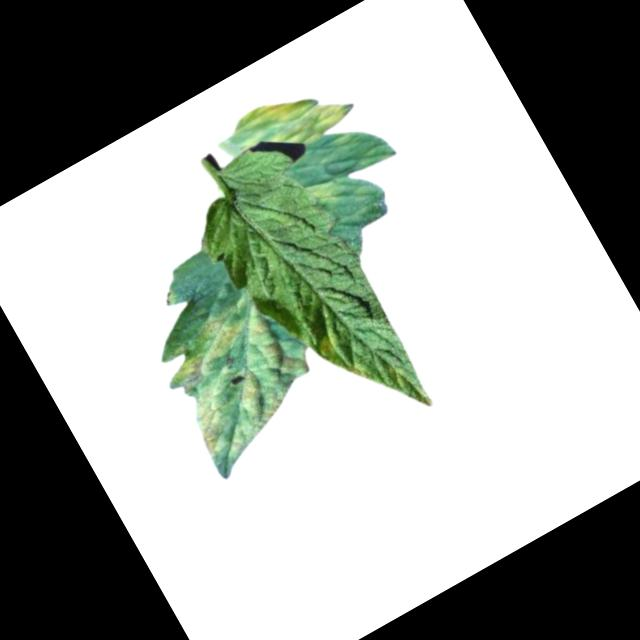Leaf_Mold: (143, 280, 332, 471), (227, 64, 358, 175), (301, 174, 342, 212), (311, 329, 348, 364)
